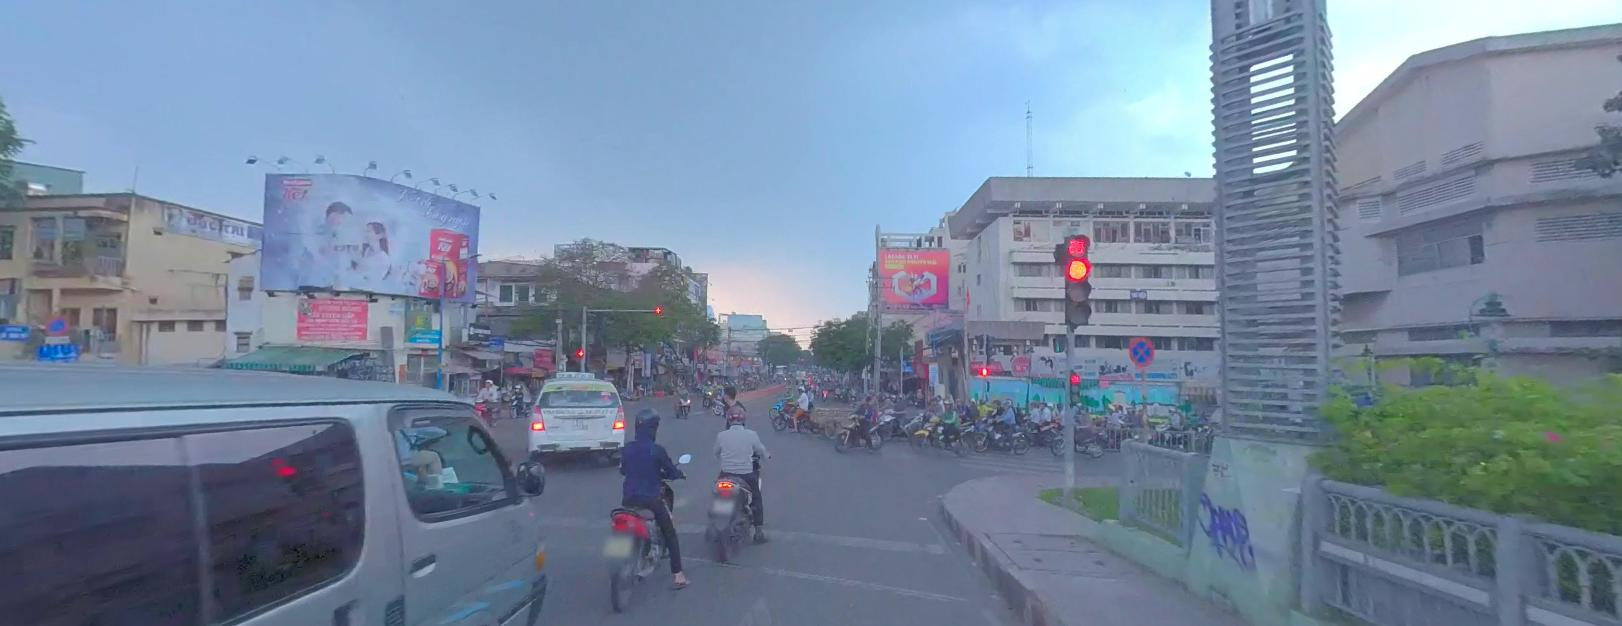Cam dung va do: (1128, 335, 1154, 365), (46, 312, 68, 336)
